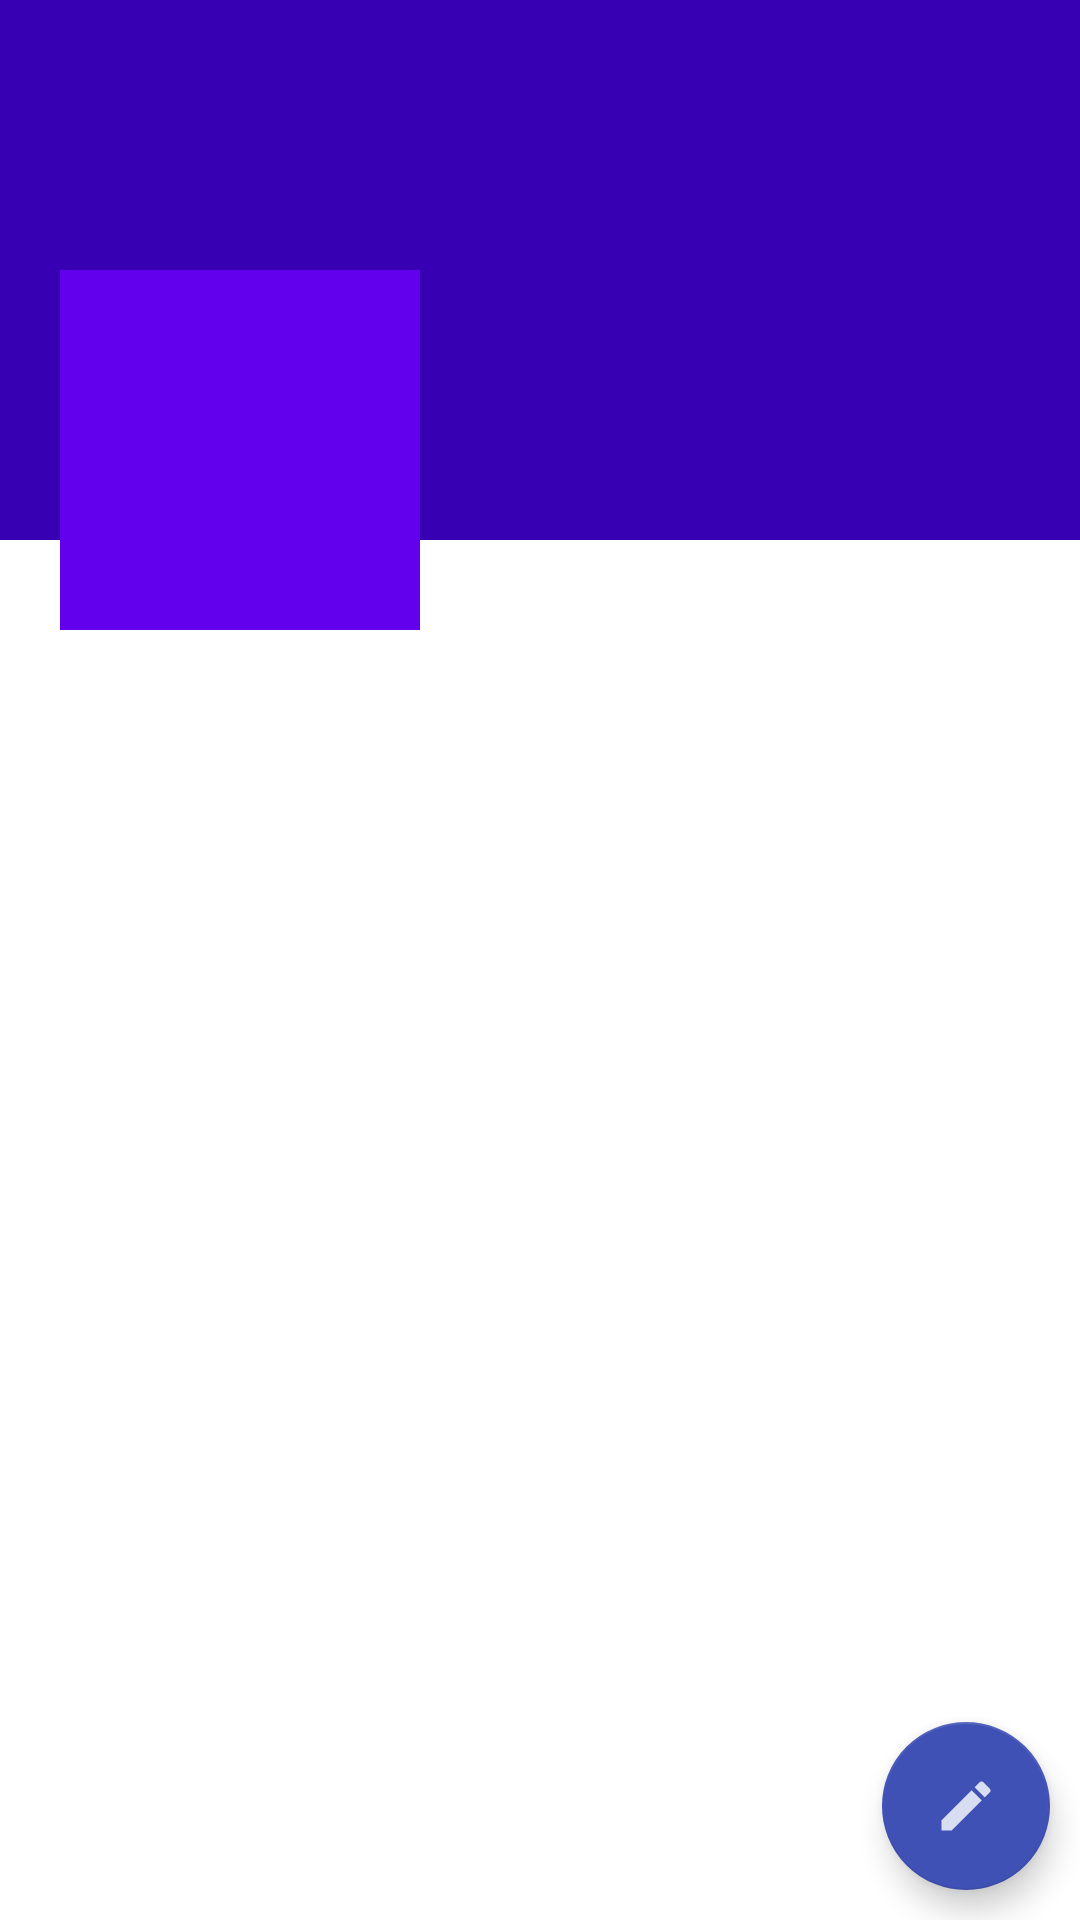

Icons on this 1080px×1920px Android screen, each with the point to tap as (x=x, y=y):
edit: (x=966, y=1806)
